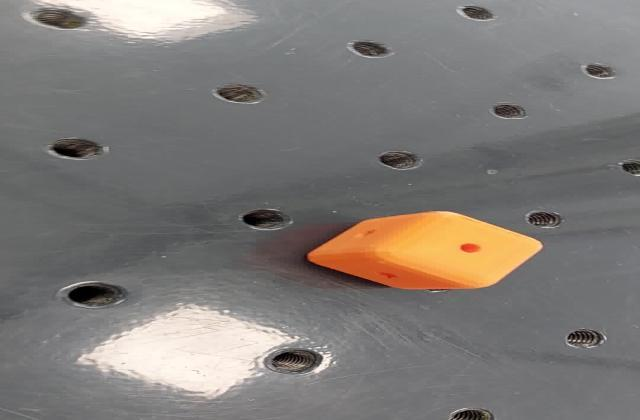cube: (300, 206, 550, 294)
